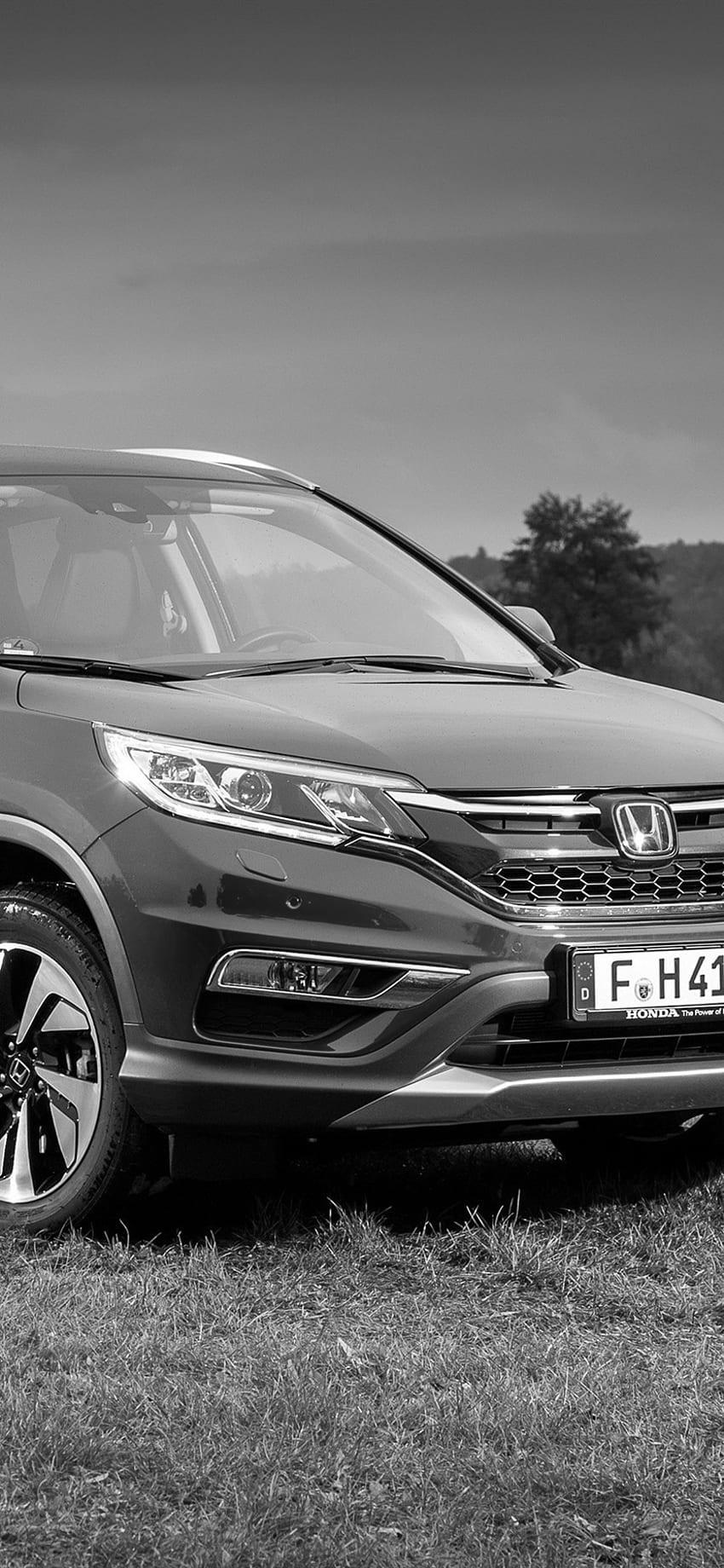Car hood: (15, 663, 724, 790)
Front bumper: (68, 806, 724, 1146)
Headlight - -R-: (77, 710, 465, 873)
Side mirror - -L-: (475, 584, 574, 651)
